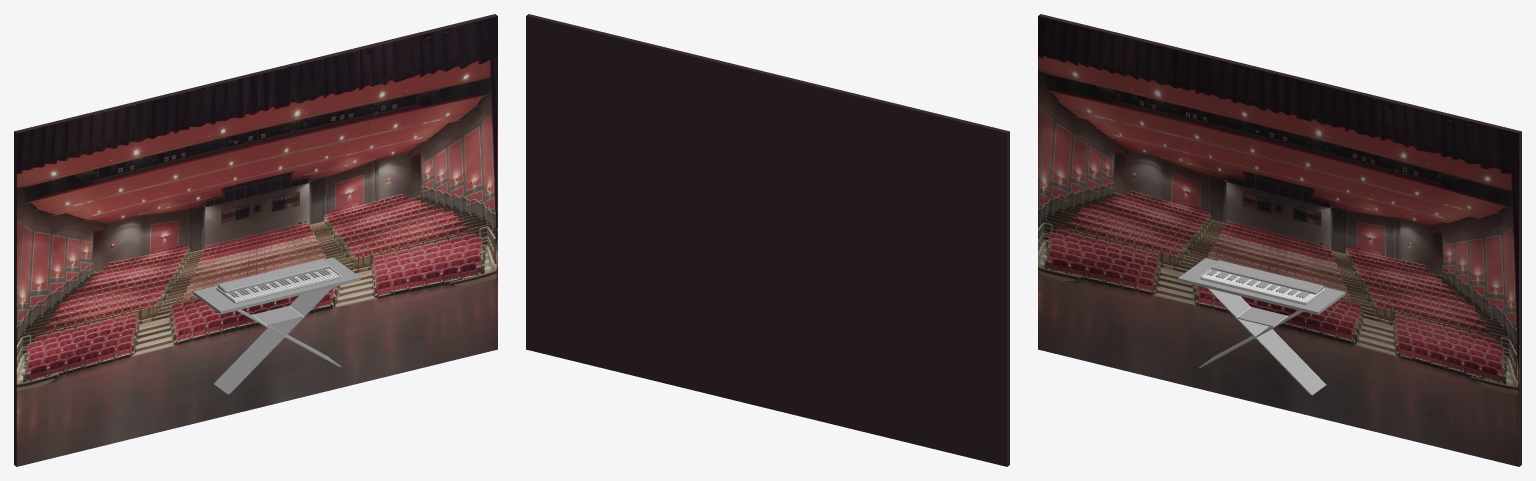
The model's file is keyboard.dae.
3 renders of one model, left to right at view 1: azimuth 30°, elevation 25°; view 2: azimuth 150°, elevation 25°; view 3: azimuth 330°, elevation 25°, orthographic.
Parts seen in each view (by area): view 1: pCube144, leg2, top, pCube108, middle_support; view 2: pCube144; view 3: pCube144, leg1, top, pCube108, middle_support.
Boxes of the visible parts, <box> form: pCube144: <box>14,14,497,466</box>; leg2: <box>214,287,332,394</box>; top: <box>193,257,360,314</box>; pCube108: <box>218,259,330,293</box>; middle_support: <box>253,306,302,325</box>; pCube144: <box>526,14,1009,466</box>; pCube144: <box>1038,14,1521,466</box>; leg1: <box>1207,288,1326,395</box>; top: <box>1178,258,1345,314</box>; pCube108: <box>1211,260,1323,294</box>; middle_support: <box>1237,307,1287,327</box>.
Size of the model in its own units: 122 by 81.13 by 15.24.
